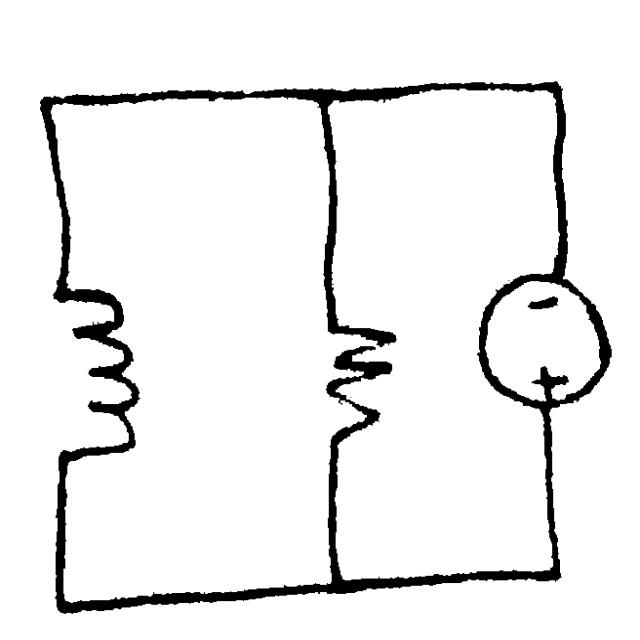dc: (468, 264, 619, 416)
inductor: (33, 269, 151, 475)
resistor: (299, 301, 409, 456)
